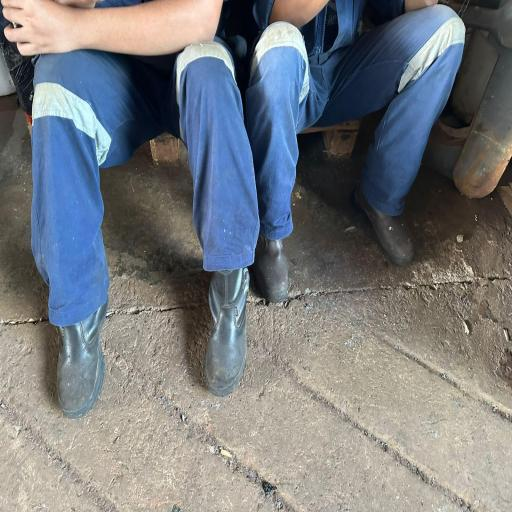safety_shoe: (174, 266, 274, 398), (338, 176, 428, 284), (40, 292, 117, 418), (254, 235, 302, 304)
